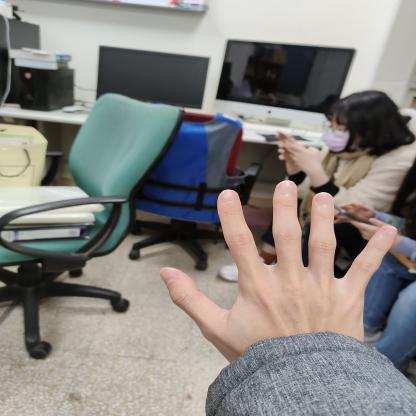bare_hand: (147, 164, 402, 366)
